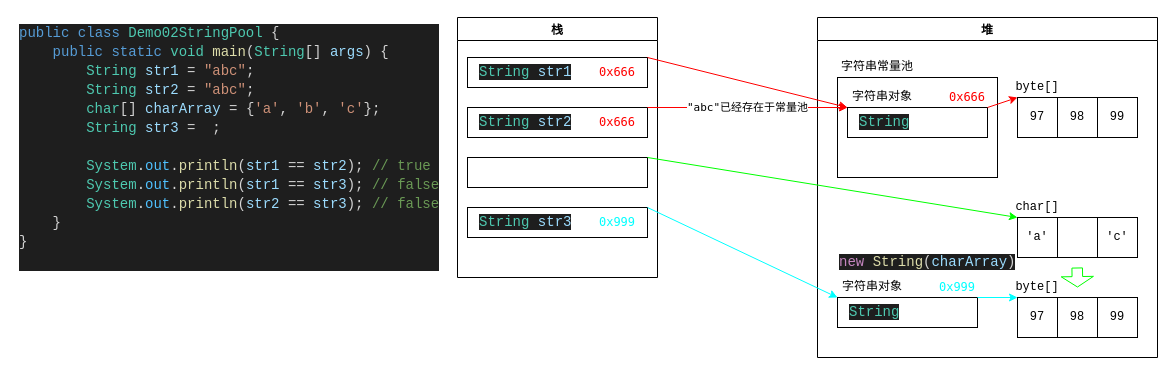
The diagram is 1175 pixels wide and 375 high, and some of its shapes have lost their labels. The box of each missing label's shape, as (x1, y1, x2, y2) in pixels:
'b': (1056, 216, 1098, 258)
char [] charArray: (466, 156, 648, 188)
